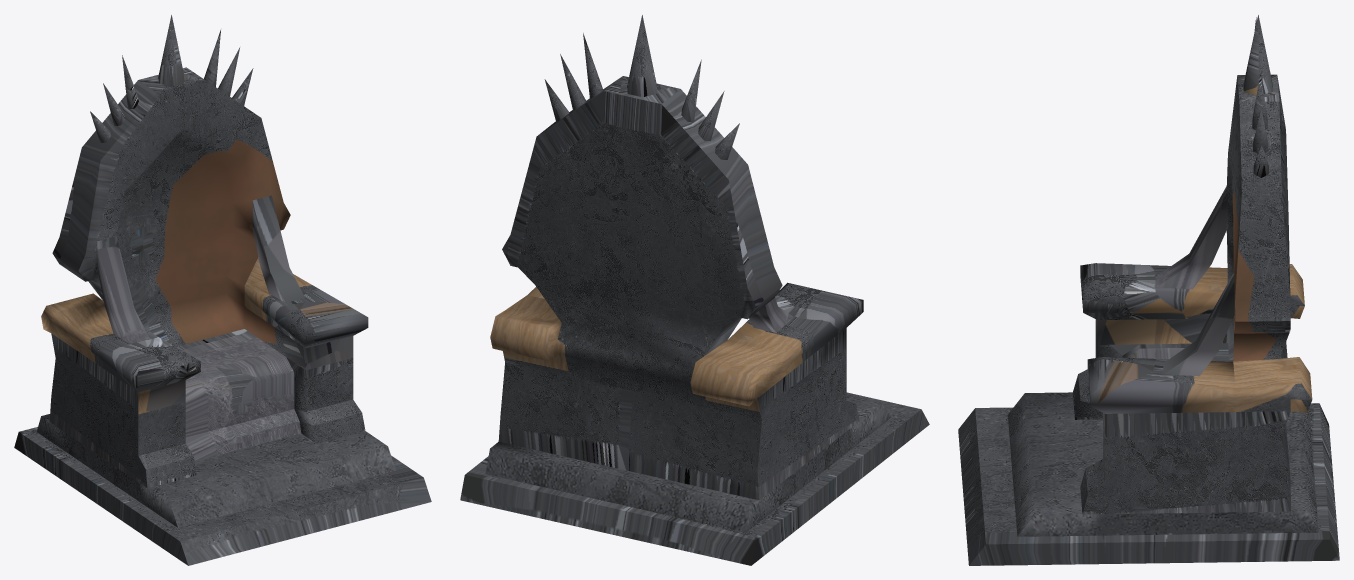
The model's file is Throne.fbx.
3 views of the same model, side by side, from view 1: azimuth 30°, elevation 25°; view 2: azimuth 150°, elevation 25°; view 3: azimuth 270°, elevation 25° (orthographic). The views are drawn at different scales.
Parts seen in each view (by area): view 1: Throne; view 2: Throne; view 3: Throne.
Part boxes in pixels (<box>): Throne: <box>14,15,431,565</box>; Throne: <box>460,15,929,565</box>; Throne: <box>958,15,1339,565</box>.
Bounding box in the file's own units: 1.7 × 2.68 × 1.93.
1 material, 1 textured.
